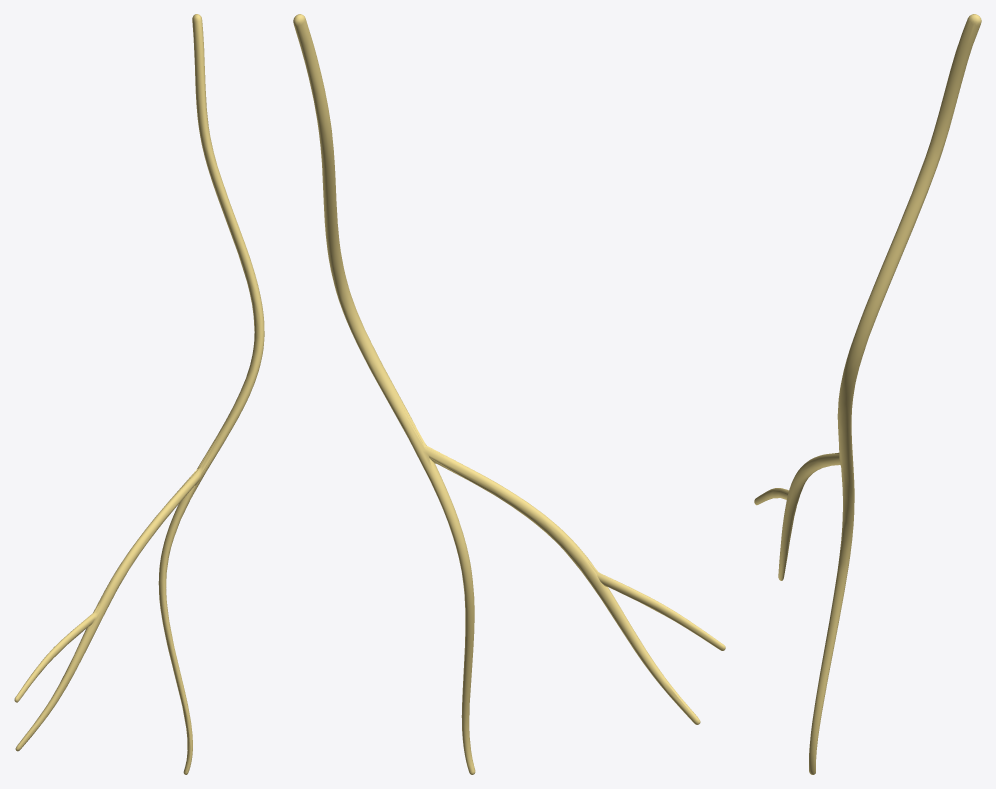
Rendered from fma53399_fj3936.glb.
3 renders of one model, left to right at view 1: azimuth 30°, elevation 25°; view 2: azimuth 150°, elevation 25°; view 3: azimuth 270°, elevation 25°, orthographic. The views are drawn at different scales.
Parts seen in each view (by area): view 1: FMA53399_FJ3936; view 2: FMA53399_FJ3936; view 3: FMA53399_FJ3936.
Part boxes in pixels (x1,y1,x2,y2): FMA53399_FJ3936: [14, 14, 264, 774]; FMA53399_FJ3936: [293, 14, 725, 774]; FMA53399_FJ3936: [754, 14, 981, 774].
Bounding box in the file's own units: 0.0272 × 0.061 × 0.0156.
